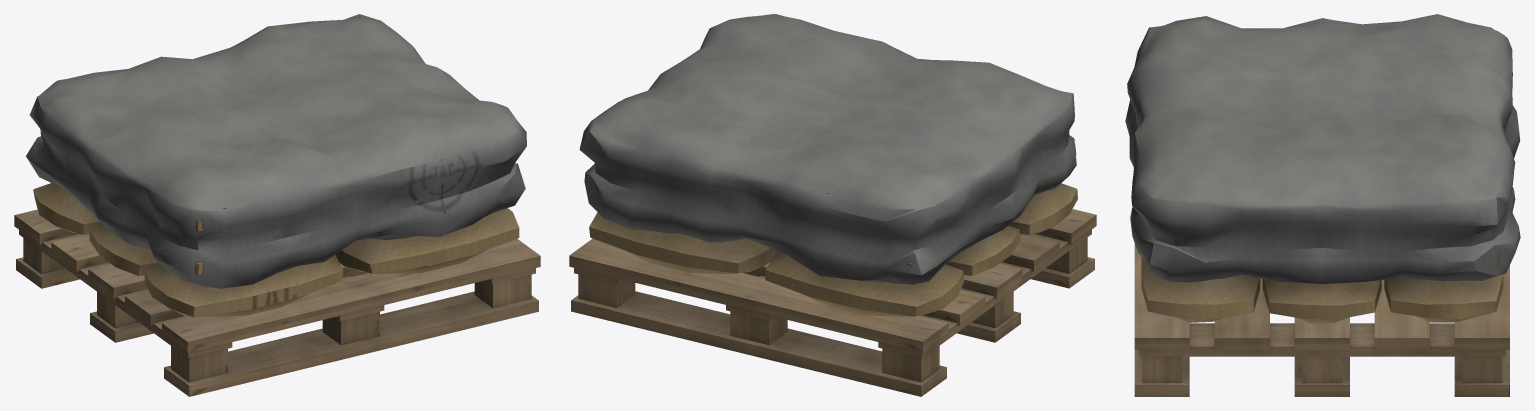
Rendered from W2_PalletSacks.fbx.
The picture shows the model from 3 angles, left to right: view 1: azimuth 30°, elevation 25°; view 2: azimuth 150°, elevation 25°; view 3: azimuth 270°, elevation 25°; orthographic projection. The views are drawn at different scales.
Visible parts, largest first — view 1: W2_PalletSacks__W2_PalletSacks_Load, W2_PalletSacks__W2_Pallet; view 2: W2_PalletSacks__W2_PalletSacks_Load, W2_PalletSacks__W2_Pallet; view 3: W2_PalletSacks__W2_PalletSacks_Load, W2_PalletSacks__W2_Pallet.
Part boxes in pixels (left/top/right/bottom): W2_PalletSacks__W2_PalletSacks_Load: left=26, top=14, right=526, bottom=317; W2_PalletSacks__W2_Pallet: left=14, top=209, right=540, bottom=396; W2_PalletSacks__W2_PalletSacks_Load: left=579, top=14, right=1077, bottom=316; W2_PalletSacks__W2_Pallet: left=569, top=209, right=1096, bottom=396; W2_PalletSacks__W2_PalletSacks_Load: left=1125, top=14, right=1520, bottom=323; W2_PalletSacks__W2_Pallet: left=1134, top=243, right=1509, bottom=396.
Size of the model in its own units: 412 by 212 by 358.
1 material, 1 textured.
